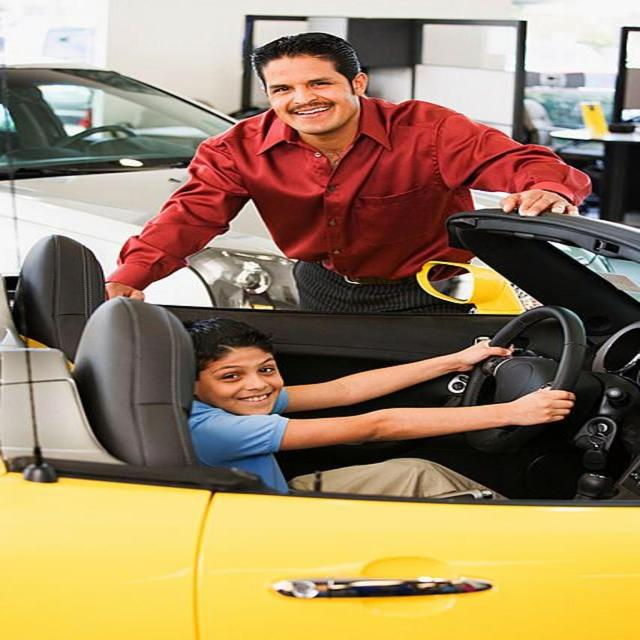Face: (176, 332, 307, 426), (266, 49, 372, 150)
